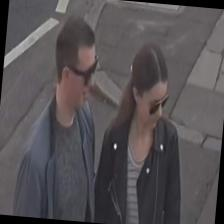person: (12, 10, 112, 222), (90, 39, 195, 224)
